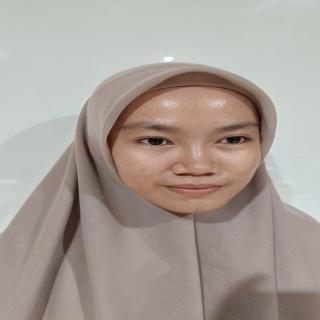Netral: (108, 81, 275, 219)
